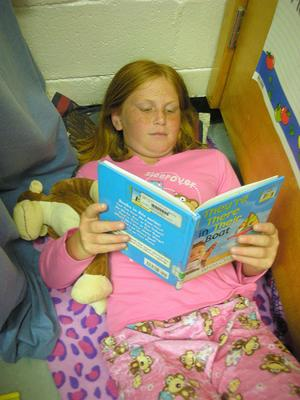person: (39, 59, 300, 400)
